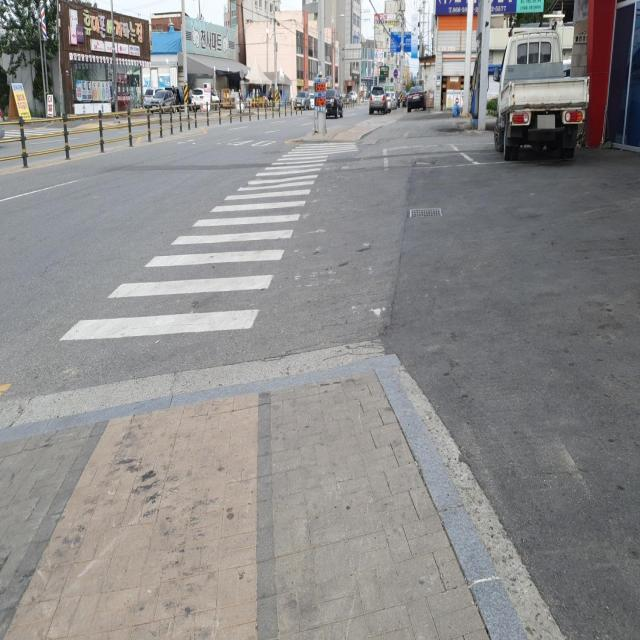횡단보도: (58, 140, 358, 343)
